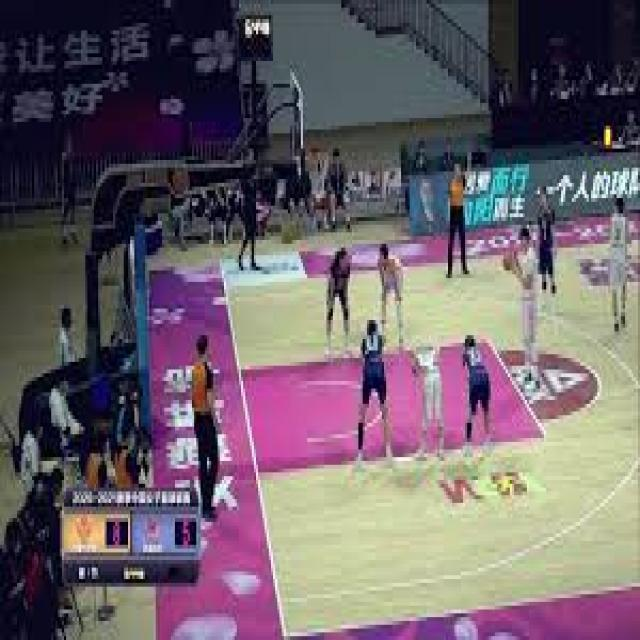rim: (504, 243, 516, 274)
